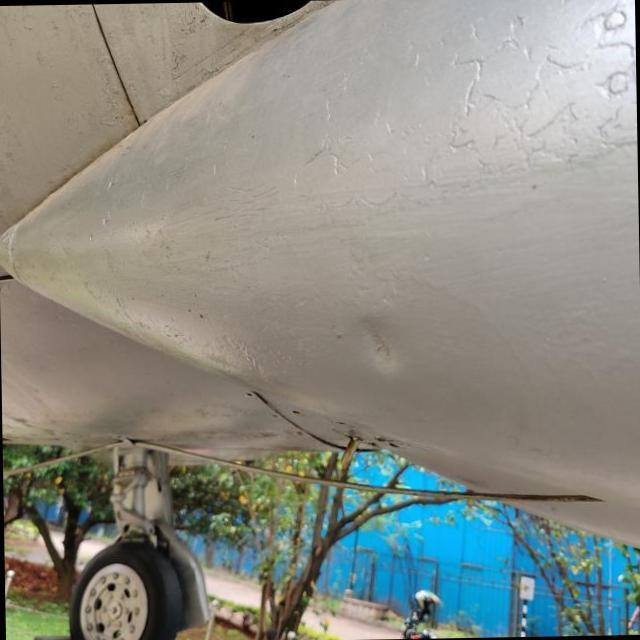dent: (334, 294, 422, 388)
